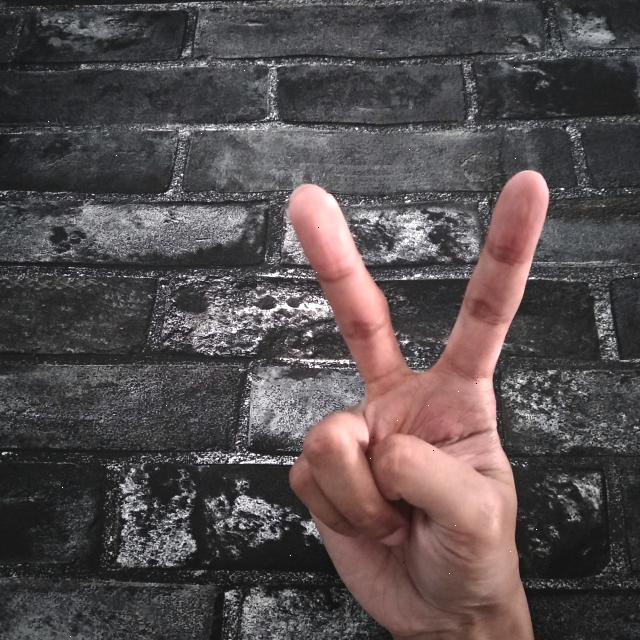V: (276, 161, 557, 640)
